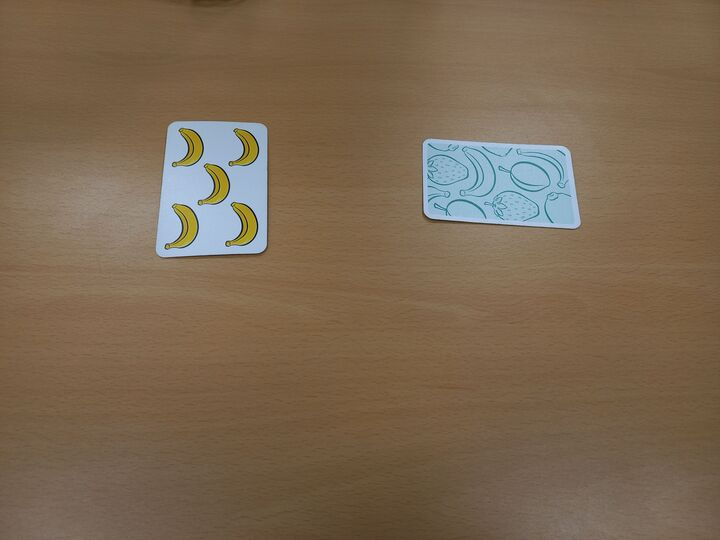banana5: (155, 119, 269, 259)
